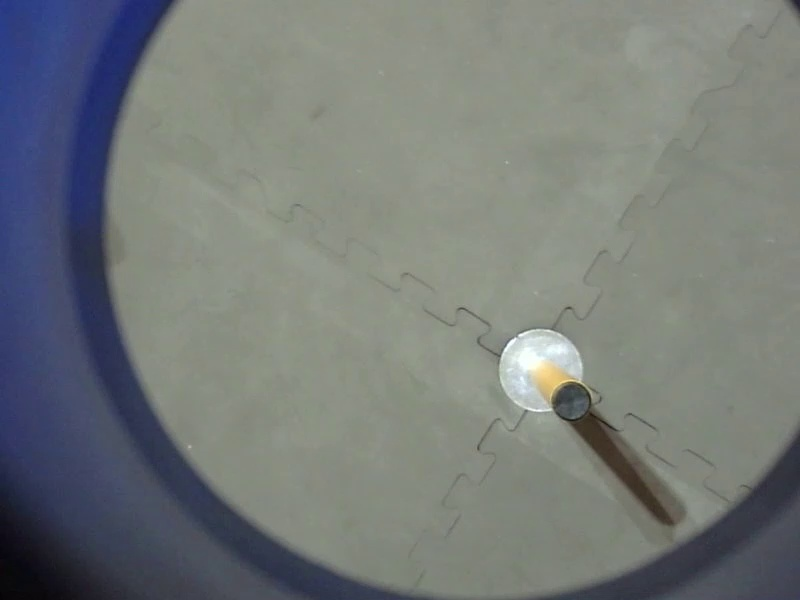tip: (546, 375, 598, 424)
